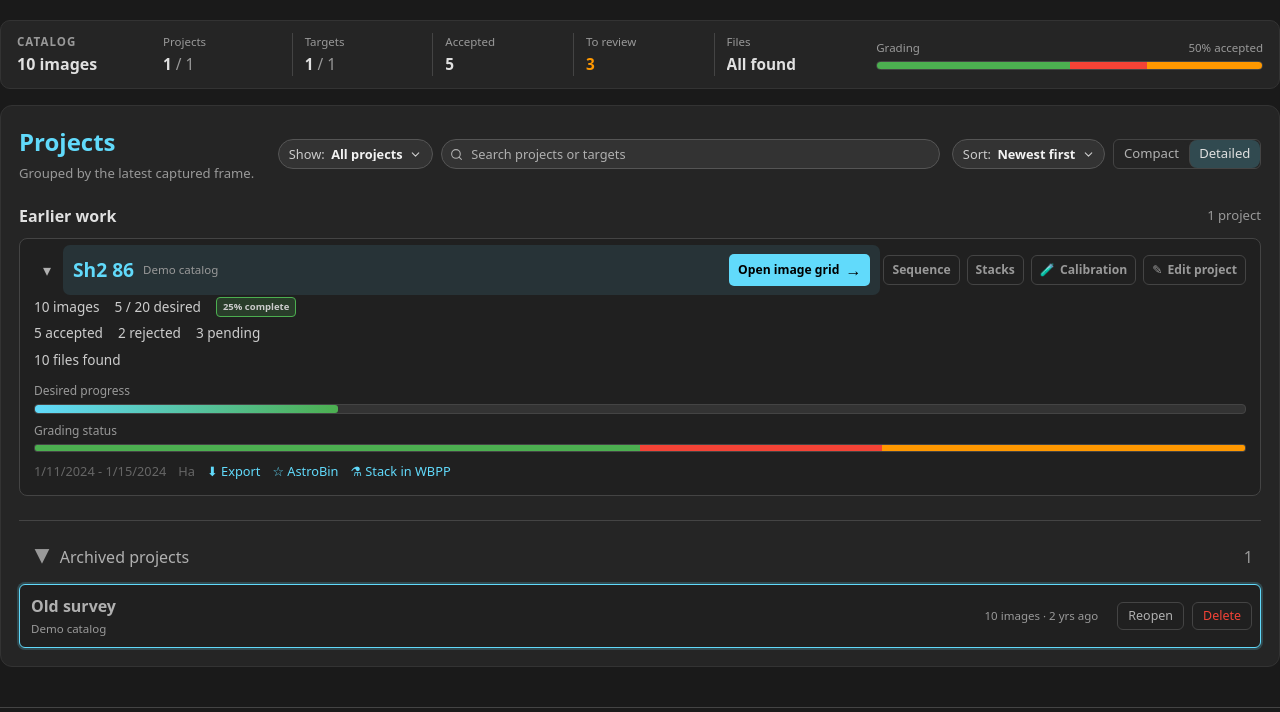
Test: Overview return scope › deletes an archived project after its preview, and says what went
What coordinates should you click on to do the following:
click the button with aria-label "Delete Old survey from Demo catalog"
I would click on:
 (1222, 616)
Its box is [1192,602,1252,630].
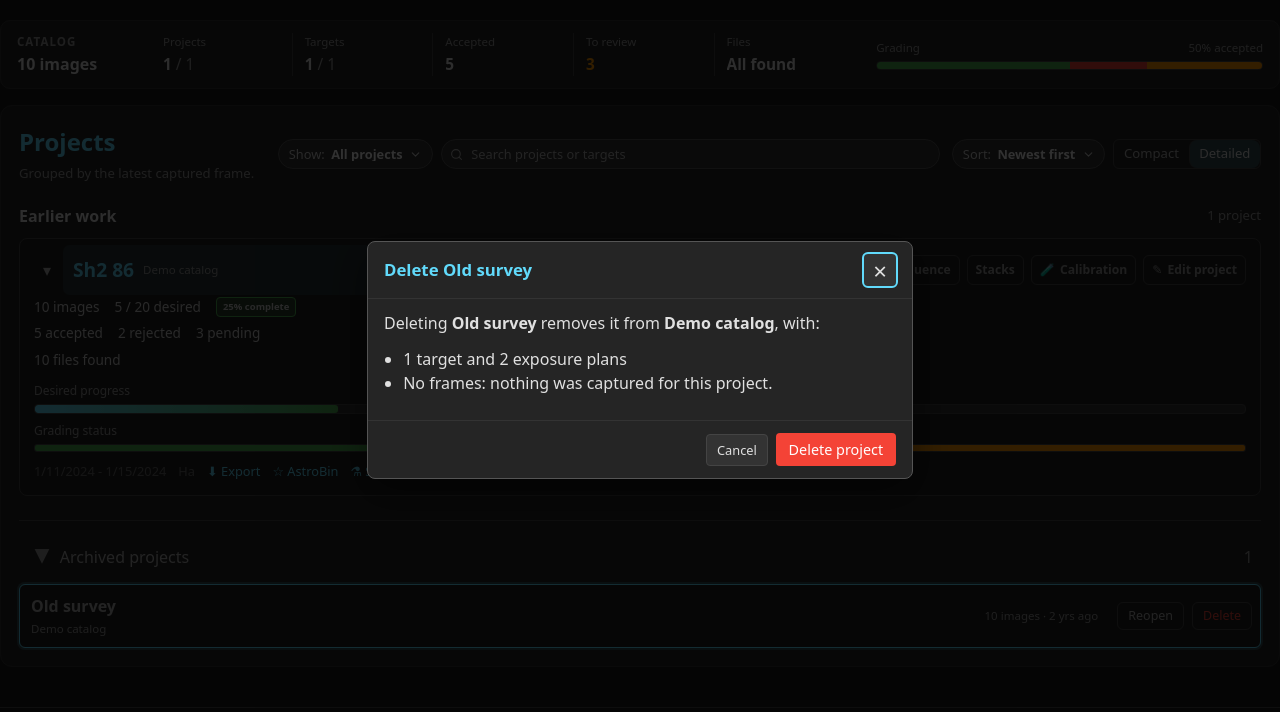
Check: the list item "1 target and 2 exposure plans" is shown, box [403,348,627,370]
What coordinates should you click on to do the following:
click the button "Delete project"
I would click on:
 (836, 450)
Its box is [776,433,896,466].
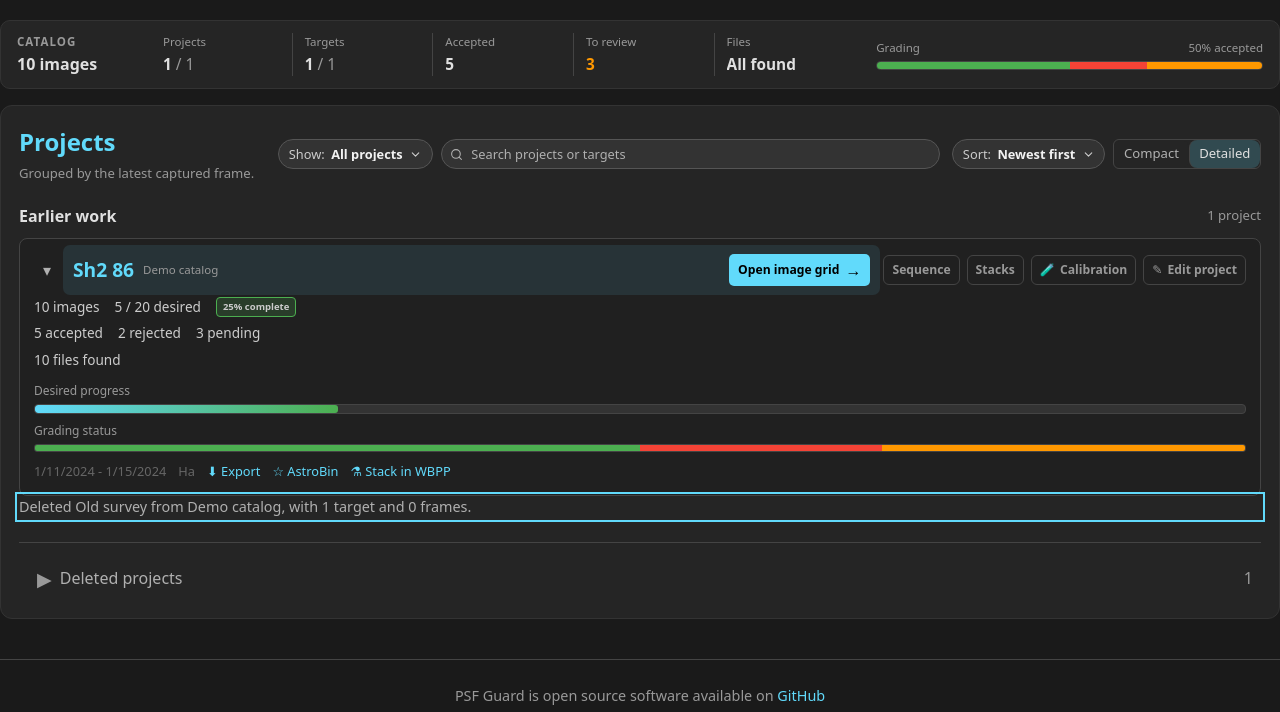
Check: the button "▶ Deleted projects 1" is collapsed, box [19,557,1261,600]
